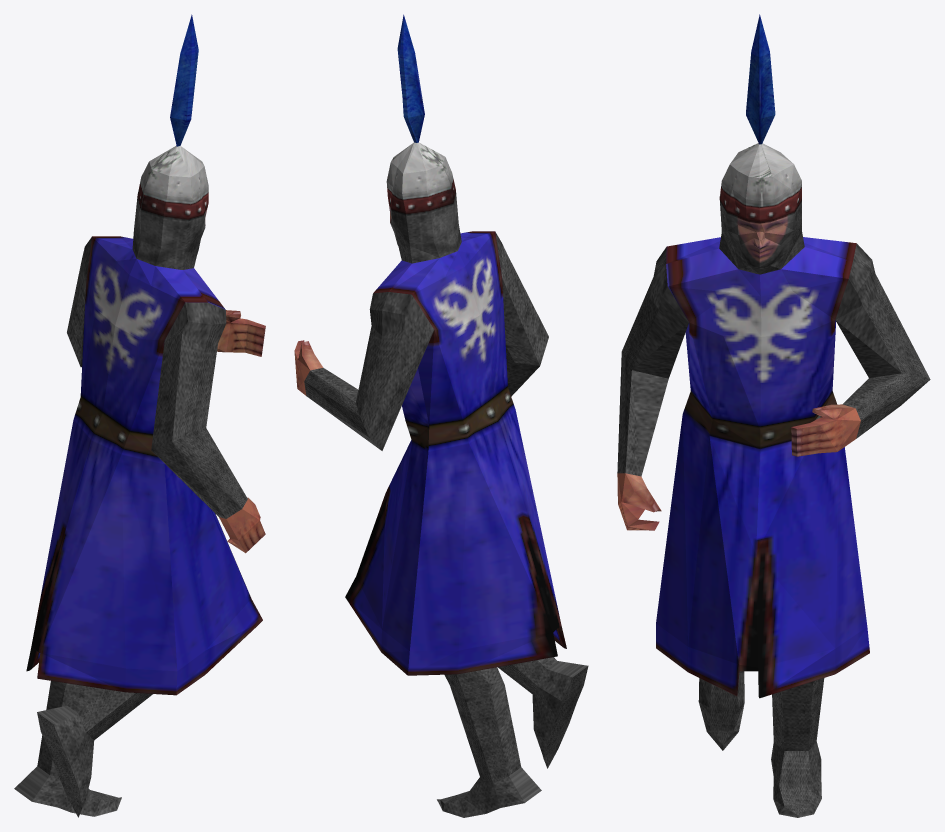
File: guard_run14.obj
3 views of the same model, side by side, from view 1: azimuth 30°, elevation 25°; view 2: azimuth 150°, elevation 25°; view 3: azimuth 270°, elevation 25° (orthographic). The views are drawn at different scales.
Parts seen in each view (by area): view 1: Object_1; view 2: Object_1; view 3: Object_1.
Boxes of the visible parts, x1,y1,x2,y2 form: Object_1: (14,14,265,817); Object_1: (294,14,588,817); Object_1: (617,14,930,817).
Size of the model in its own units: 0.7526 by 2.21 by 0.7523.
1 material, 1 textured.
